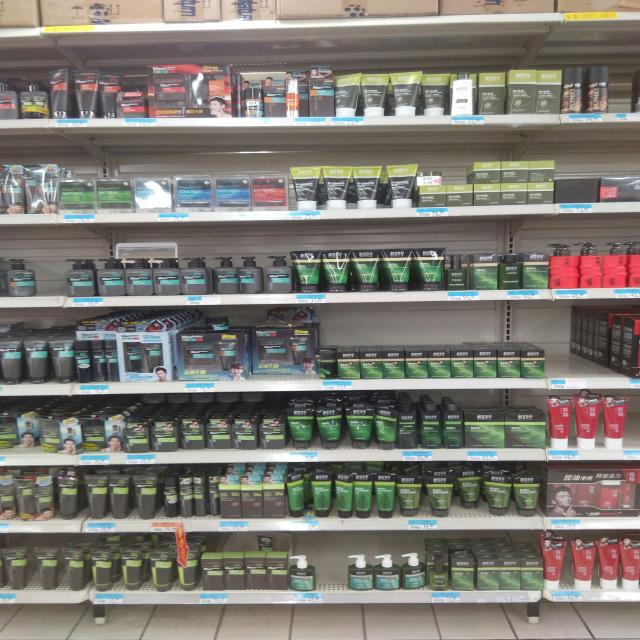void: (587, 308, 616, 390), (550, 306, 578, 385), (321, 533, 344, 606), (615, 61, 640, 123)
